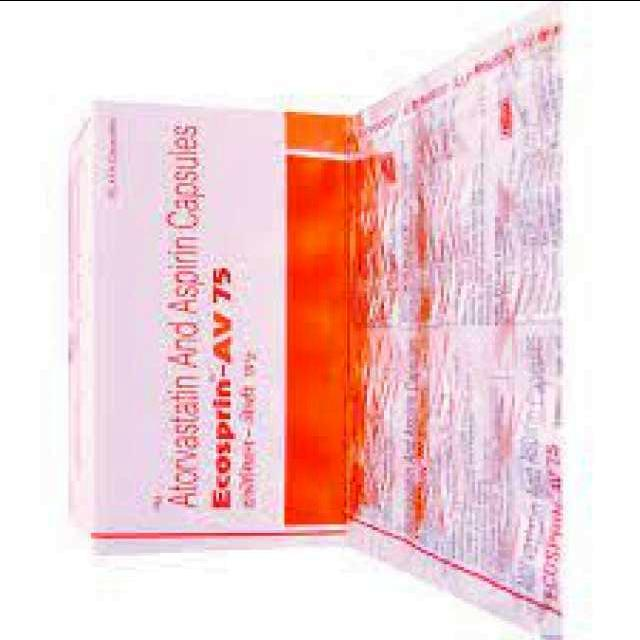authentic: (346, 0, 582, 634), (58, 89, 363, 558)
